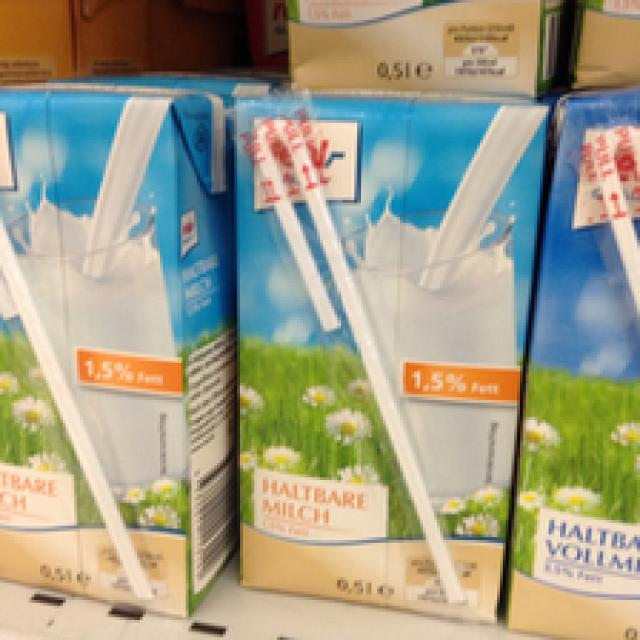groceries: (223, 94, 517, 637), (0, 77, 240, 617), (509, 91, 634, 632)
